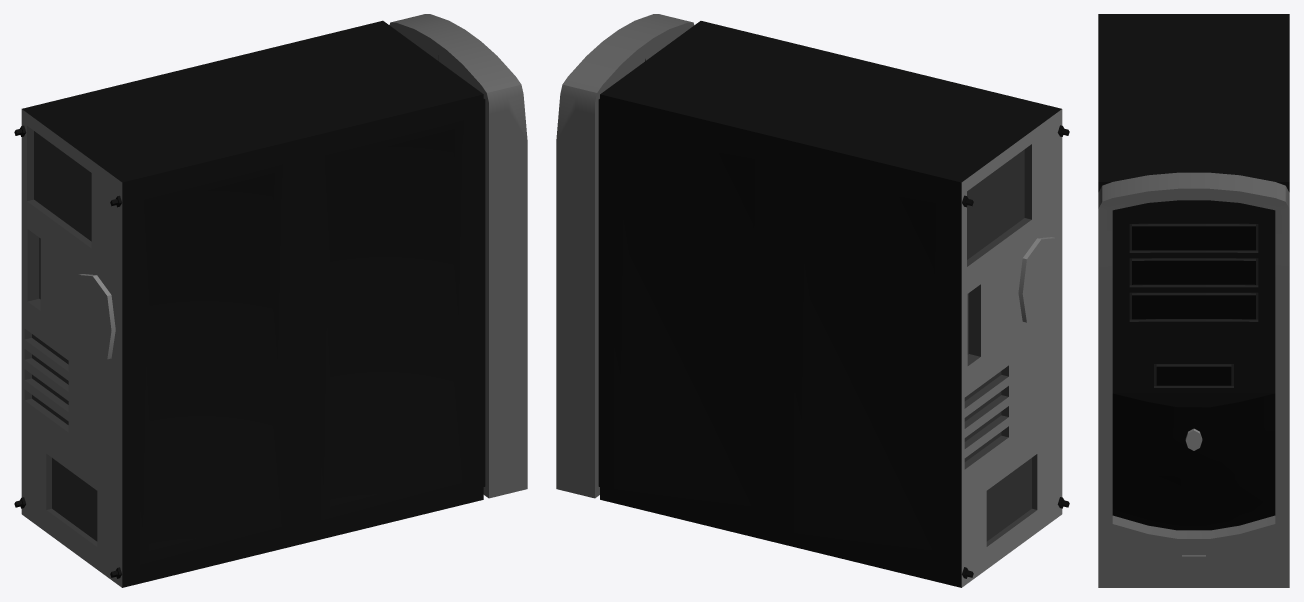
The model's file is PC_Tower_01.glb.
3 renders of one model, left to right at view 1: azimuth 30°, elevation 25°; view 2: azimuth 150°, elevation 25°; view 3: azimuth 270°, elevation 25°, orthographic. The views are drawn at different scales.
Parts seen in each view (by area): view 1: Mesh_PC_01; view 2: Mesh_PC_01; view 3: Mesh_PC_01.
Boxes of the visible parts, x1,y1,x2,y2 form: Mesh_PC_01: (14, 14, 527, 587); Mesh_PC_01: (556, 14, 1069, 587); Mesh_PC_01: (1098, 14, 1289, 587).
Size of the model in its own units: 0.5496 by 0.515 by 0.225.
1 material, 1 textured.
